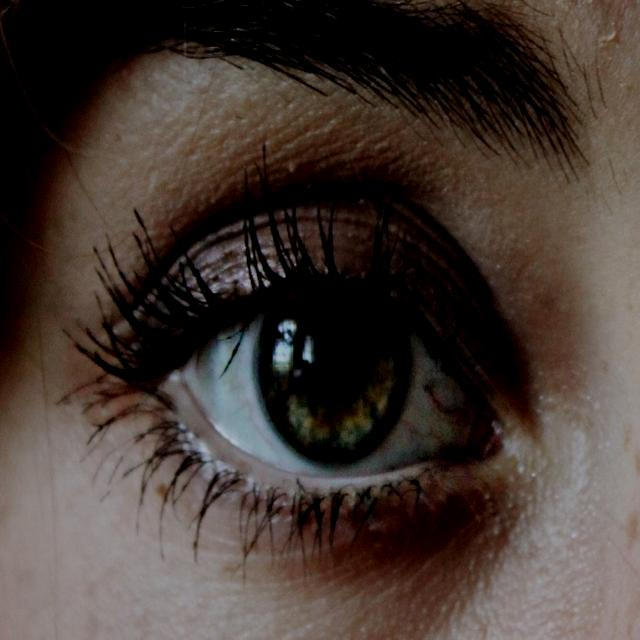Normal: (72, 185, 594, 546)
